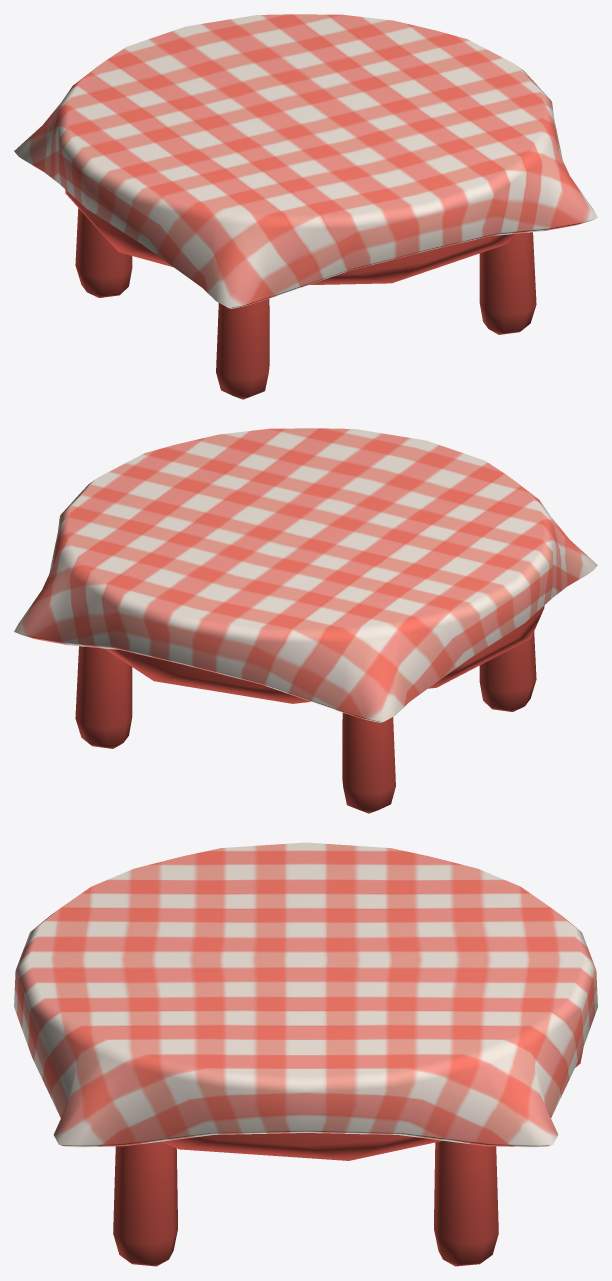
The model's file is Homestead_cm_1.fbx.
3 views of the same model, one above another, from view 1: azimuth 30°, elevation 25°; view 2: azimuth 150°, elevation 25°; view 3: azimuth 270°, elevation 25° (orthographic). The views are drawn at different scales.
Parts seen in each view (by area): view 1: Homestead_cm_1; view 2: Homestead_cm_1; view 3: Homestead_cm_1.
Part boxes in pixels (bbox=[...]): Homestead_cm_1: bbox=[14, 14, 597, 399]; Homestead_cm_1: bbox=[14, 428, 597, 813]; Homestead_cm_1: bbox=[14, 842, 597, 1266].
Size of the model in its own units: 205 by 87.81 by 205.
